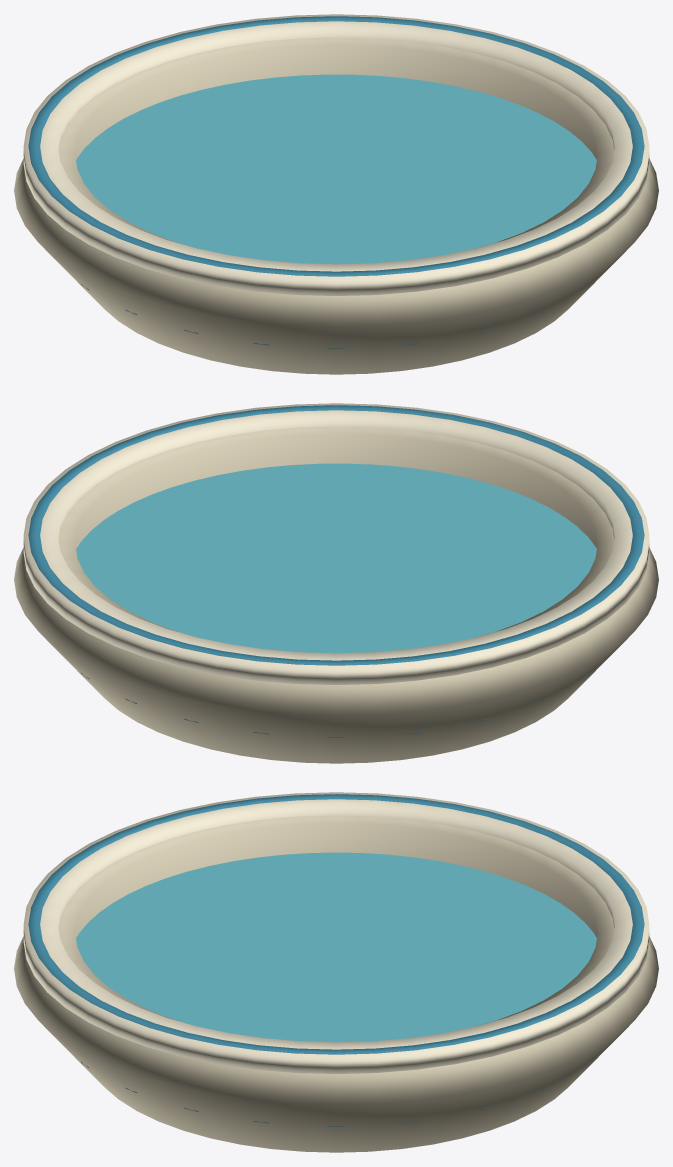
The model's file is fantasy-bathhouse-and-thermal-sanctuary-fantasy-bathho-6a8cb23c__29436.glb.
3 views of the same model, one above another, from view 1: azimuth 30°, elevation 25°; view 2: azimuth 150°, elevation 25°; view 3: azimuth 270°, elevation 25° (orthographic).
Parts seen in each view (by area): view 1: fantasy-bathhouse-and-thermal-sanctuary-thermal-basin; view 2: fantasy-bathhouse-and-thermal-sanctuary-thermal-basin; view 3: fantasy-bathhouse-and-thermal-sanctuary-thermal-basin.
Boxes of the visible parts, box(x1,y1,x2,y2) form: fantasy-bathhouse-and-thermal-sanctuary-thermal-basin: box(14, 14, 658, 374); fantasy-bathhouse-and-thermal-sanctuary-thermal-basin: box(14, 403, 658, 763); fantasy-bathhouse-and-thermal-sanctuary-thermal-basin: box(14, 792, 658, 1152).
Bounding box in the file's own units: 4.7 × 1.02 × 4.7.
